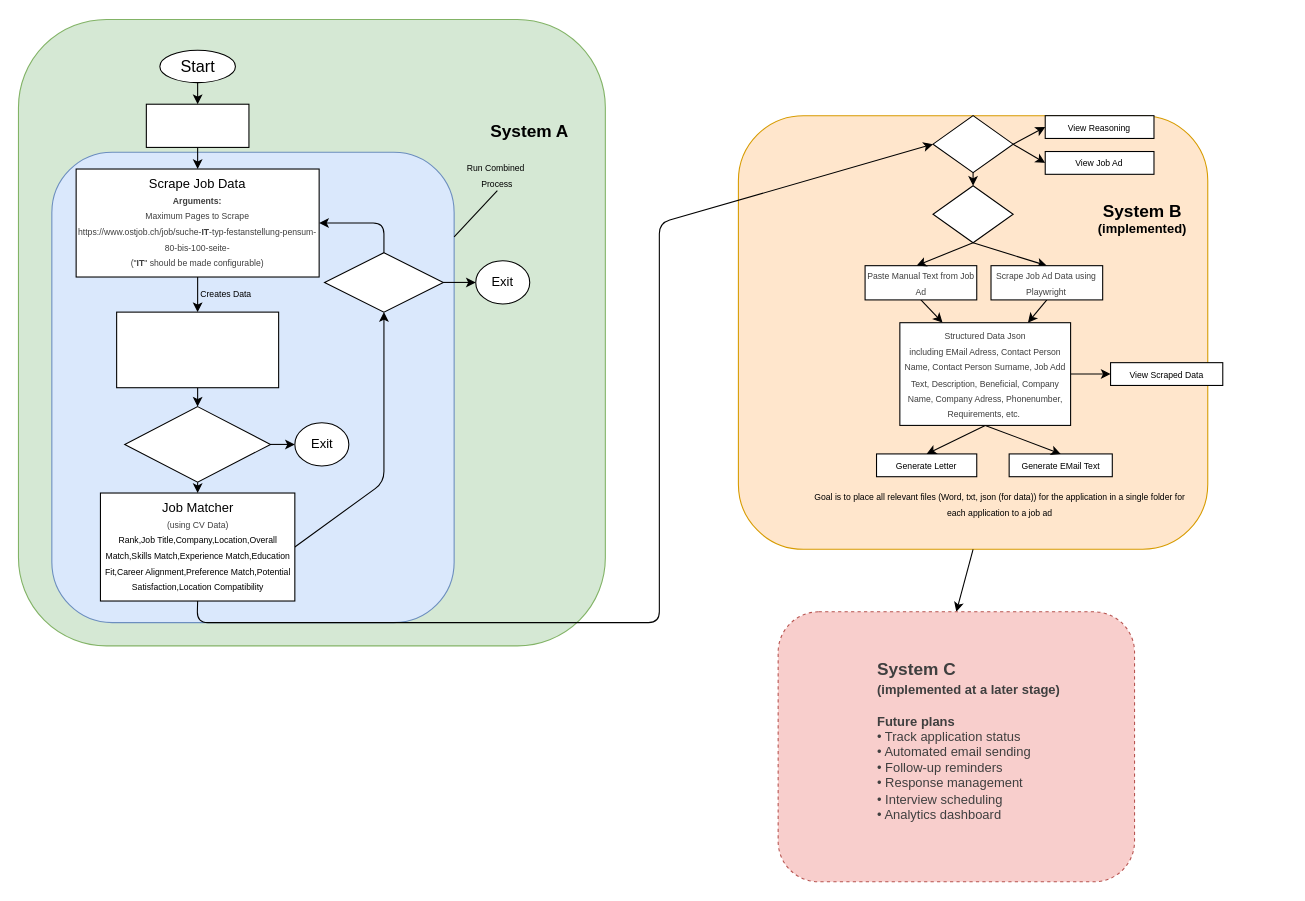
Some shapes in this 1305 by 901 pixel diagram are drawn without their labels. The shapes that lost their labels are listed below. From the top down, each one's centre as x and y in pixels, then its label:
At (197,125): "Upload / Read CV".
At (972,144): "Actions".
At (972,214): "Get Data".
At (383,282): "Maximum Page Nr. Reached?".
At (197,349): "Available Job Data URL, Posting Date,Job Title,Company Name,Location".
At (197,444): "Job Add URL Matched by Job Matcher?".
